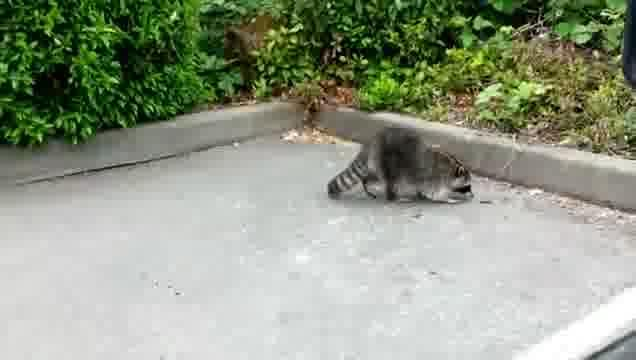raccoon: (327, 123, 476, 207)
